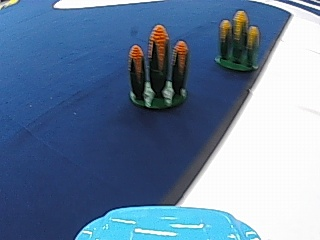corn: (125, 28, 190, 110), (213, 7, 261, 73)
